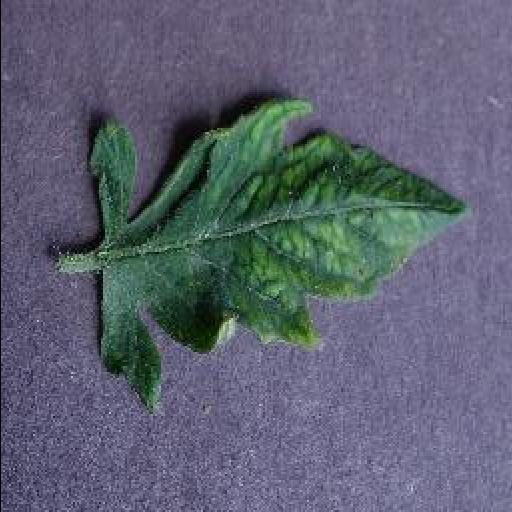disease_tomato: (83, 100, 469, 416)
